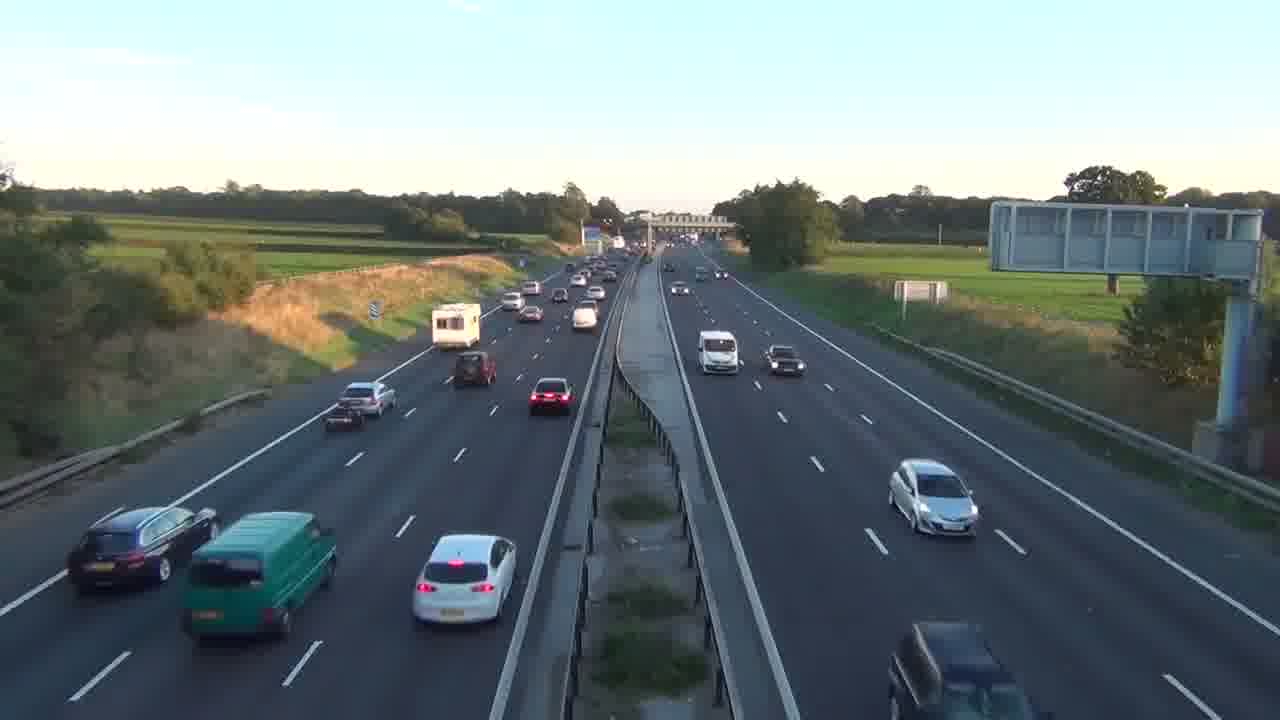car: (65, 501, 217, 594), (411, 532, 517, 627), (888, 458, 981, 538), (528, 376, 577, 416), (340, 381, 385, 416), (322, 400, 367, 432), (763, 344, 806, 375), (571, 304, 598, 332), (516, 304, 544, 323), (670, 282, 690, 295)
truck: (179, 509, 338, 640), (450, 351, 497, 388)
